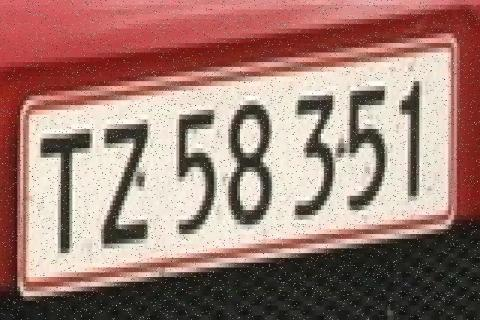LicensePlate: (10, 84, 462, 280)
